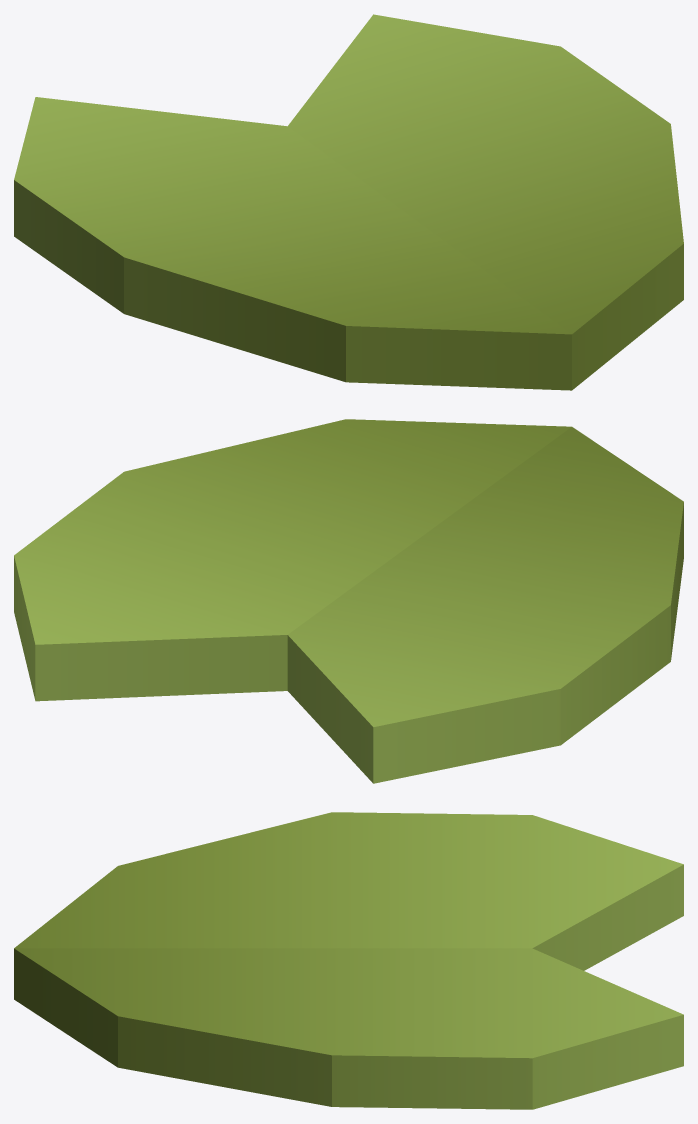
Rendered from Water_lily_01.fbx.
3 views of the same model, one above another, from view 1: azimuth 30°, elevation 25°; view 2: azimuth 150°, elevation 25°; view 3: azimuth 270°, elevation 25° (orthographic). The views are drawn at different scales.
Parts seen in each view (by area): view 1: Water_lily_01; view 2: Water_lily_01; view 3: Water_lily_01.
Boxes of the visible parts, box(x1,y1,x2,y2) form: Water_lily_01: box(14, 14, 683, 390); Water_lily_01: box(14, 419, 683, 783); Water_lily_01: box(14, 812, 683, 1109).
Bounding box in the file's own units: 0.5981 × 0.0754 × 0.6965.
